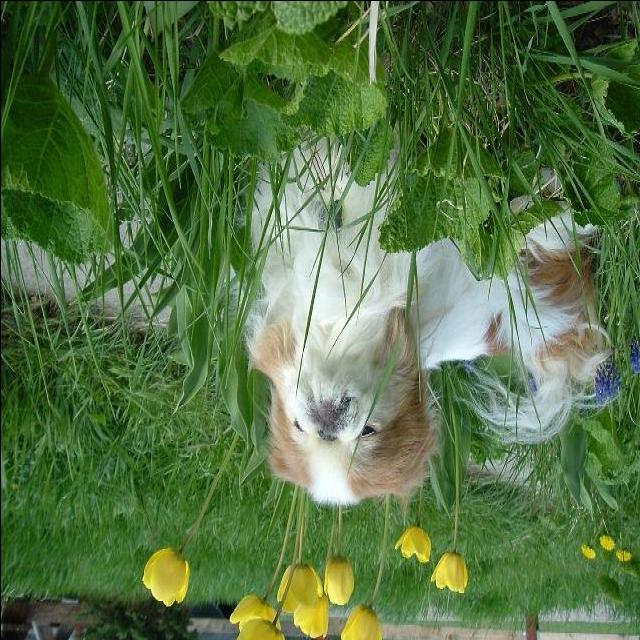husky: (248, 135, 610, 502)
